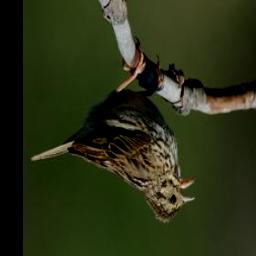Sparrow: (32, 37, 198, 225)
